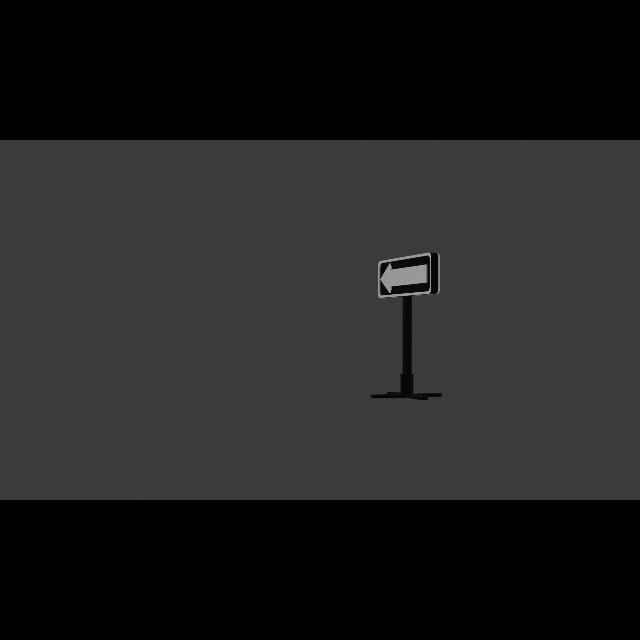sign_oneway_left: (378, 253, 441, 300)
